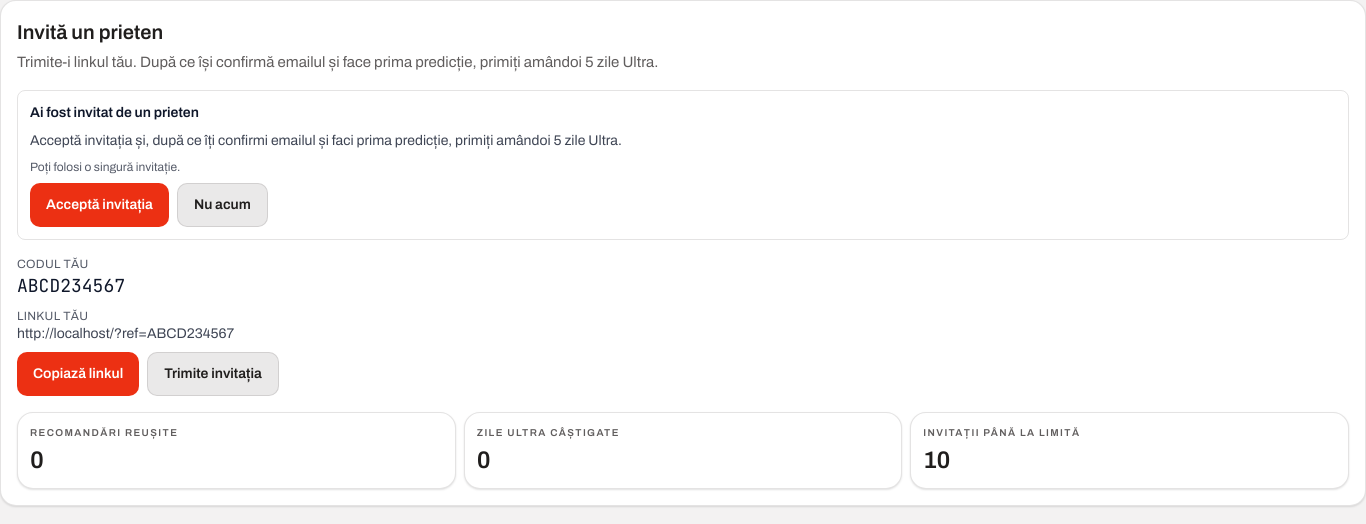
Test: claiming an invitation › lets the user decline, and keeps the invitation for later
What coordinates should you click on to do the following:
click the button "Nu acum"
I would click on:
 (222, 204)
Its box is [177,182,268,226].
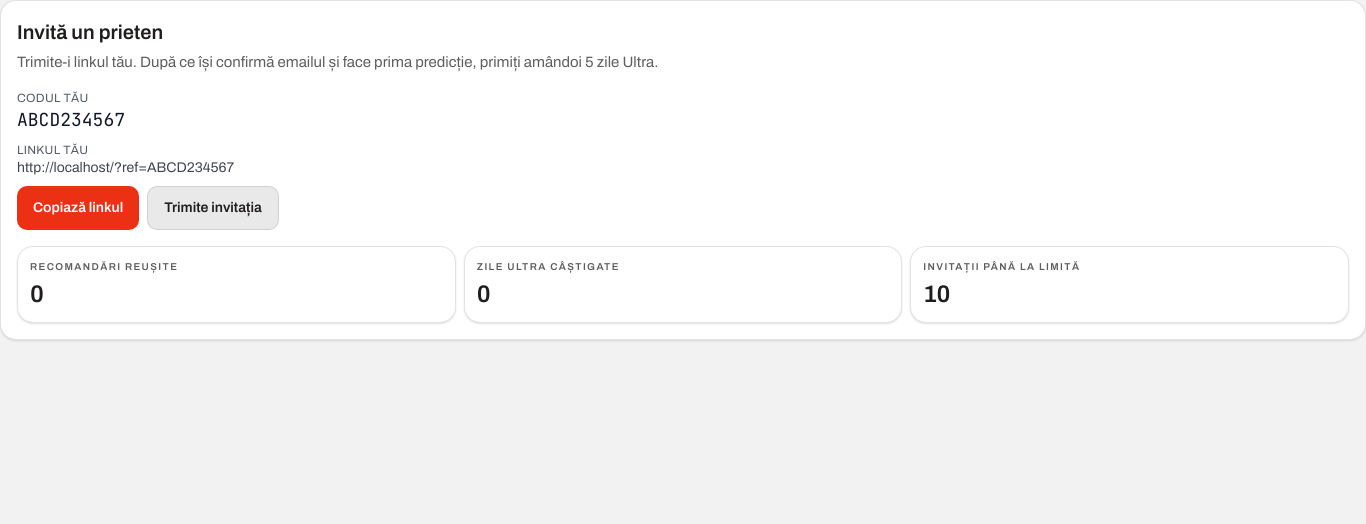
Check: the element with test id "referral-invite-prompt" is gone
